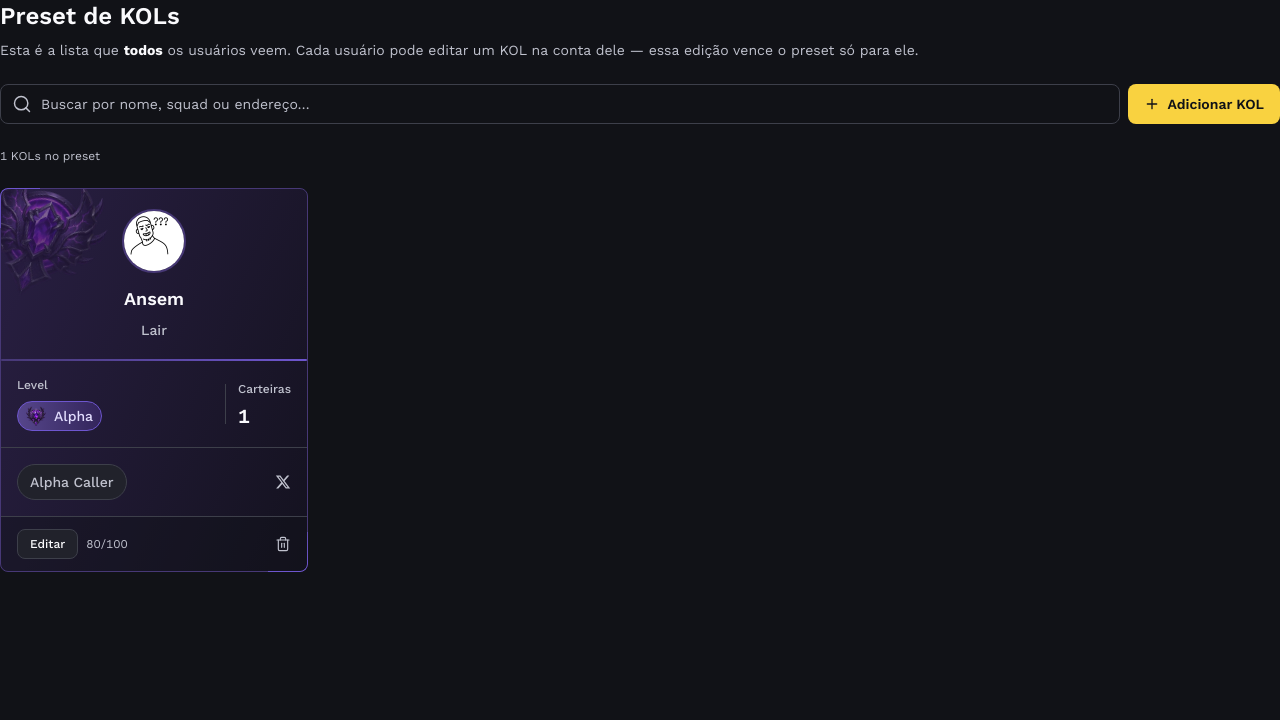
Test case: KolsAdmin — salvar › atualiza a listagem depois de salvar, sem refresh
Click the button named "Abrir Ansem": (154, 380) [1,189,307,571]
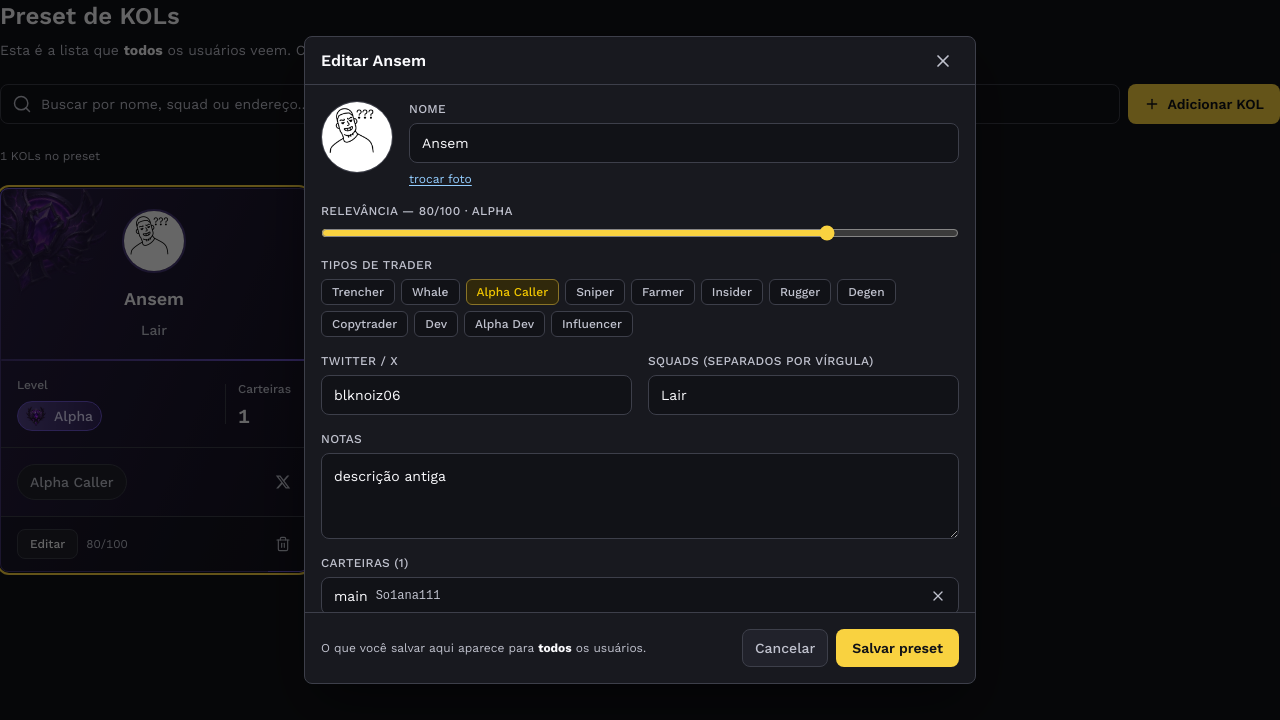
Replace the text in the field labelled "Nome" with "Ansem renomeado": (684, 143) [409,123,959,163]
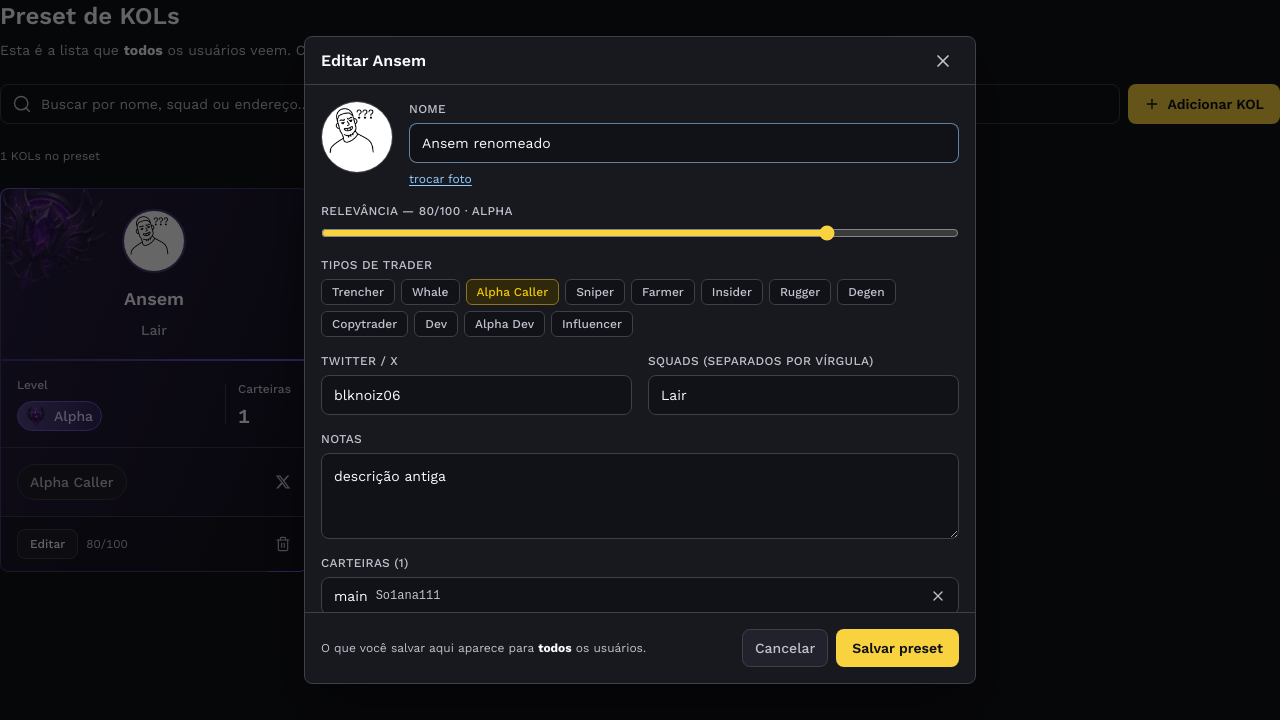
Click the button "Salvar preset": (898, 648) [836,629,959,667]
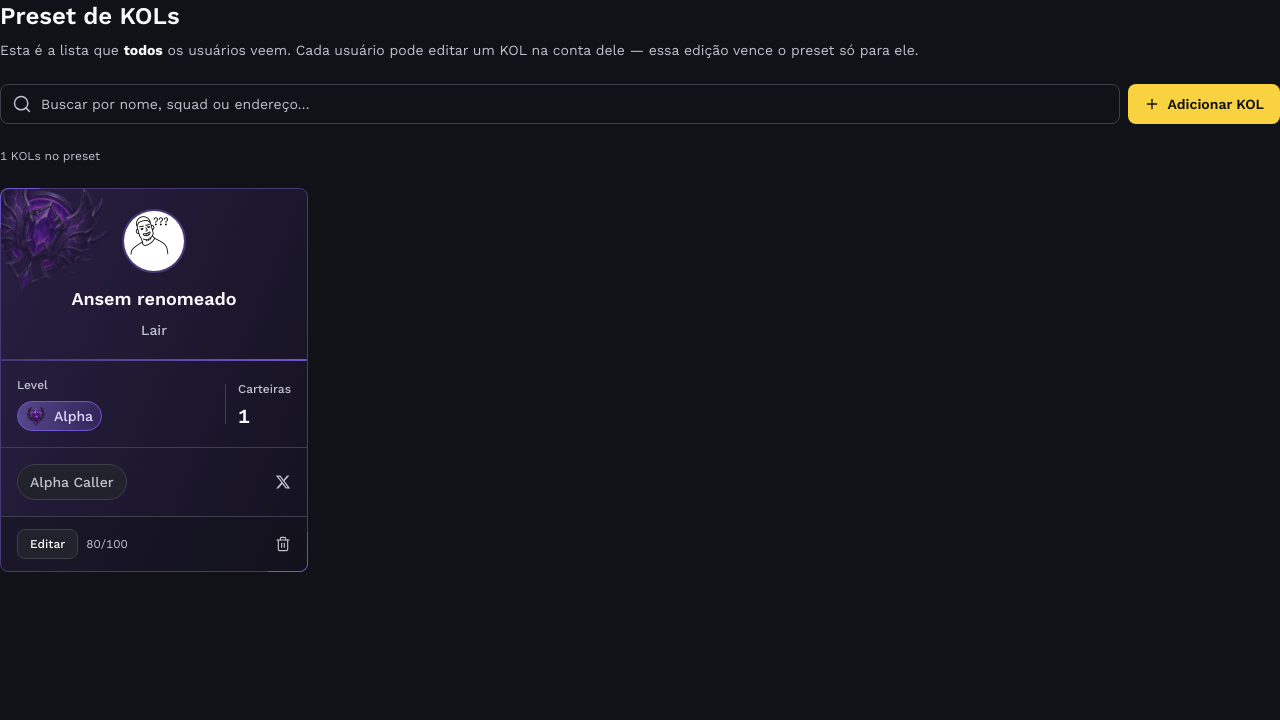
Expected: the text "Ansem renomeado" is shown, [71,288,237,309]
